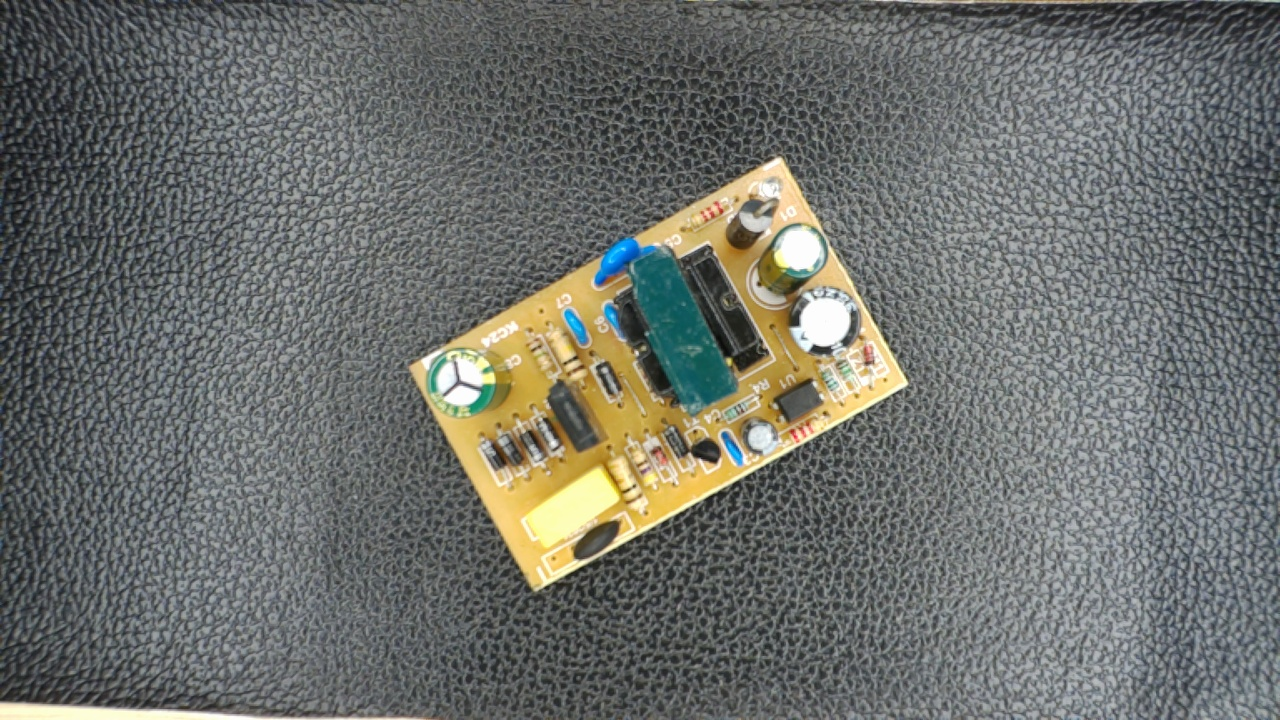fuse: (566, 521, 627, 564)
hv_capacitor: (419, 348, 513, 420)
mov: (588, 239, 656, 293)
optocoupler: (764, 378, 828, 423)
